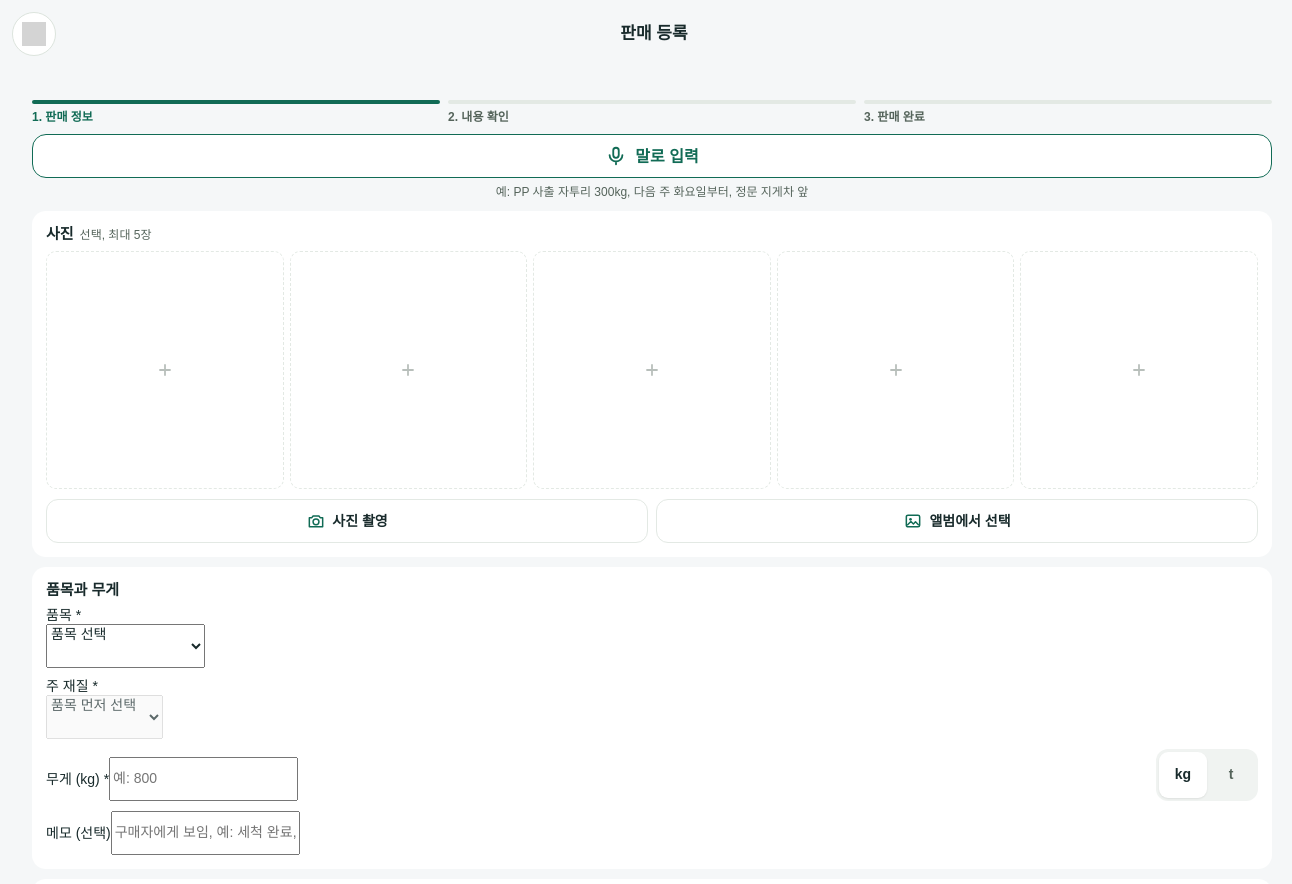
Test: 직접 입력을 누르면 녹음을 버리고 음성을 보내지 않는다
The image size is (1292, 884).
Later steps or results of the test are not shown.
Click the button "말로 입력" at coordinates (652, 156), box x1=32 y1=134 x2=1272 y2=178
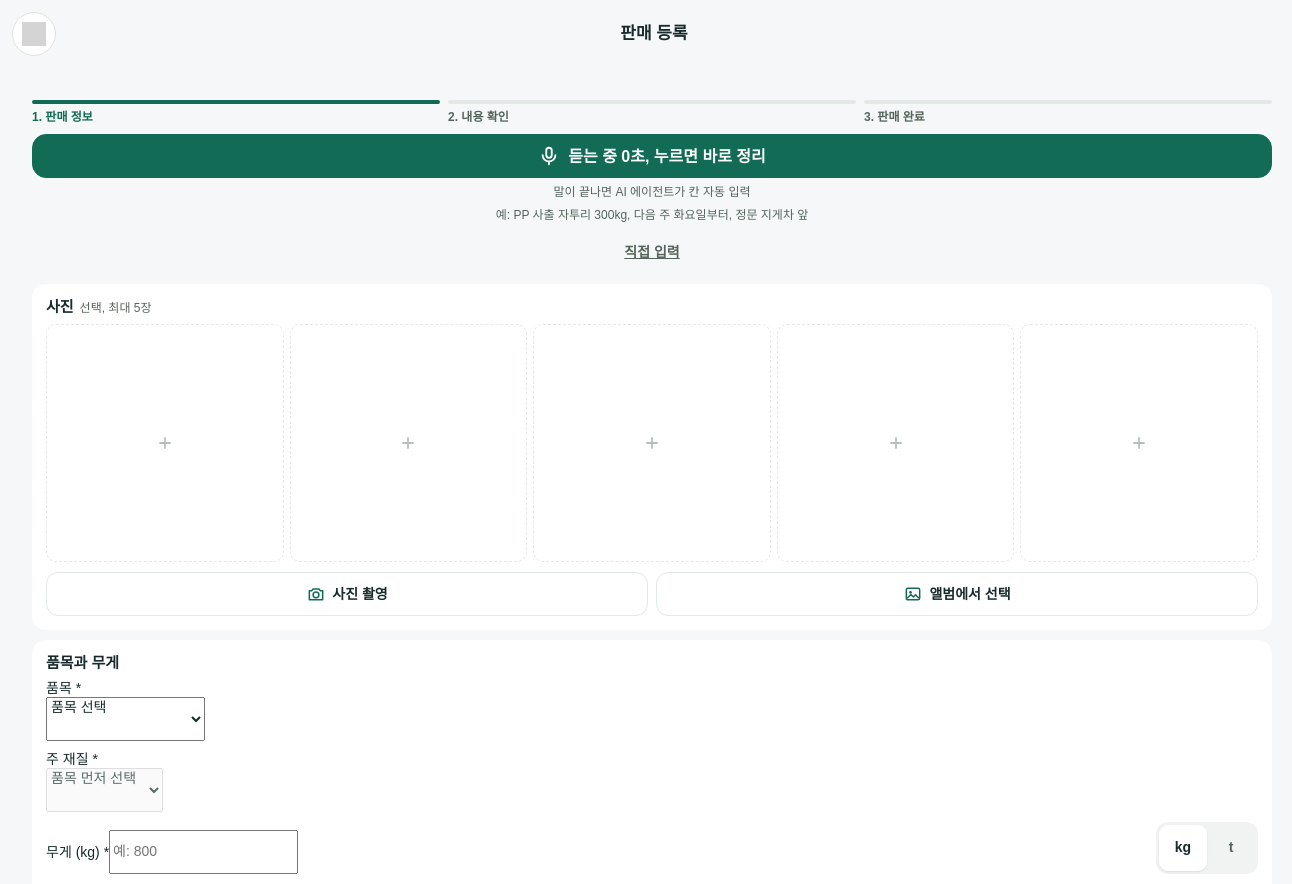
Expected: the button "듣는 중 0초, 누르면 바로 정리" is shown, x1=32 y1=134 x2=1272 y2=178
